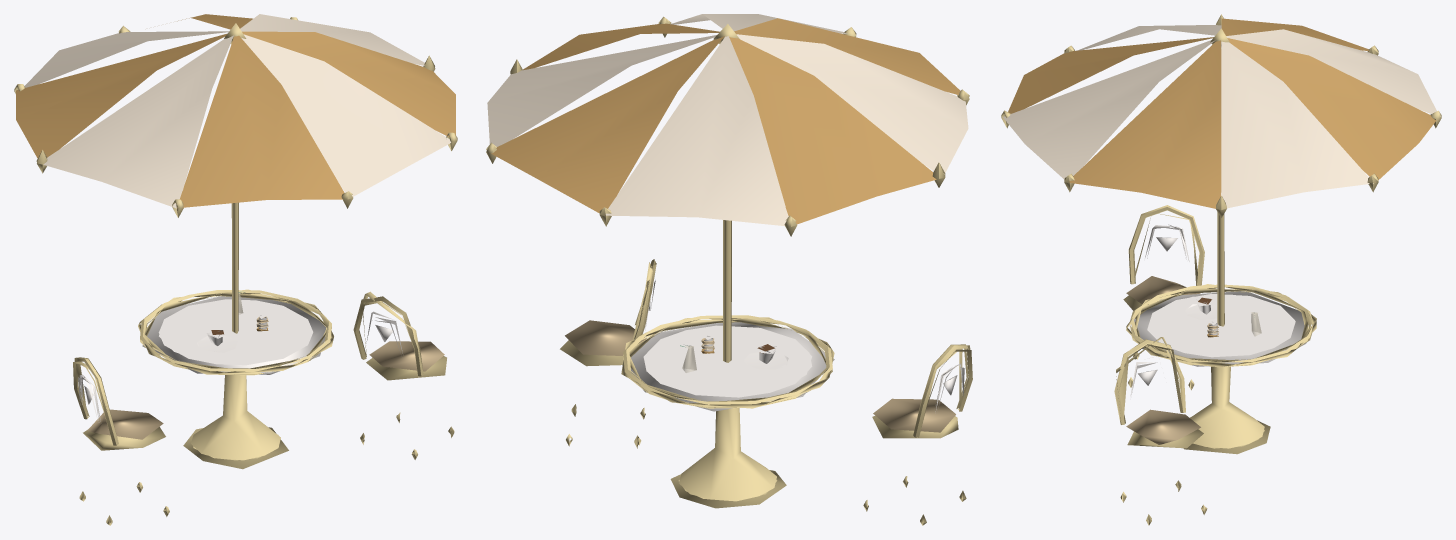
File: lod_cafe_table_set.glb
The picture shows the model from 3 angles, left to right: view 1: azimuth 30°, elevation 25°; view 2: azimuth 150°, elevation 25°; view 3: azimuth 270°, elevation 25°; orthographic projection. The views are drawn at different scales.
Parts seen in each view (by area): view 1: cafe_table_set; view 2: cafe_table_set; view 3: cafe_table_set.
Part boxes in pixels (x1,y1,x2,y2): cafe_table_set: (14, 14, 457, 525); cafe_table_set: (486, 14, 972, 525); cafe_table_set: (1001, 14, 1441, 525).
Bounding box in the file's own units: 2.68 × 2.78 × 2.67.
